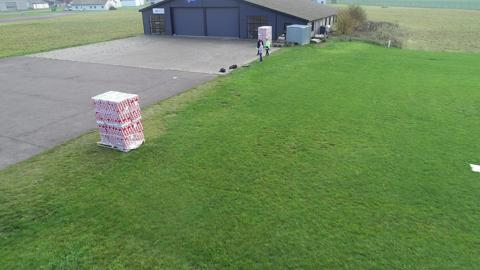RockwoolPallet: (257, 25, 273, 50)
